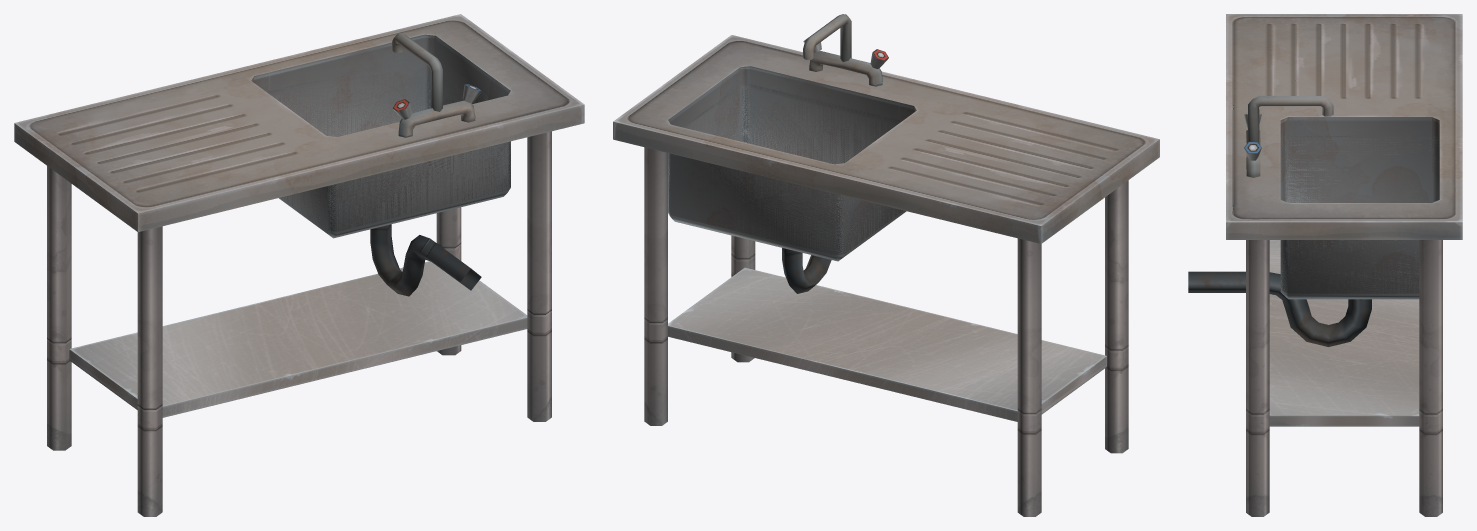
Rendered from KTB0110015.fbx.
3 views of the same model, side by side, from view 1: azimuth 30°, elevation 25°; view 2: azimuth 150°, elevation 25°; view 3: azimuth 270°, elevation 25° (orthographic). The views are drawn at different scales.
Visible parts, largest first — view 1: smKTB0110015; view 2: smKTB0110015; view 3: smKTB0110015.
Part boxes in pixels (left/top/right/bottom): smKTB0110015: left=14, top=14, right=584, bottom=516; smKTB0110015: left=613, top=14, right=1159, bottom=516; smKTB0110015: left=1188, top=14, right=1462, bottom=516.
Bounding box in the file's own units: 137 × 113 × 76.21.
Materials: 1 (1 with a texture image).
